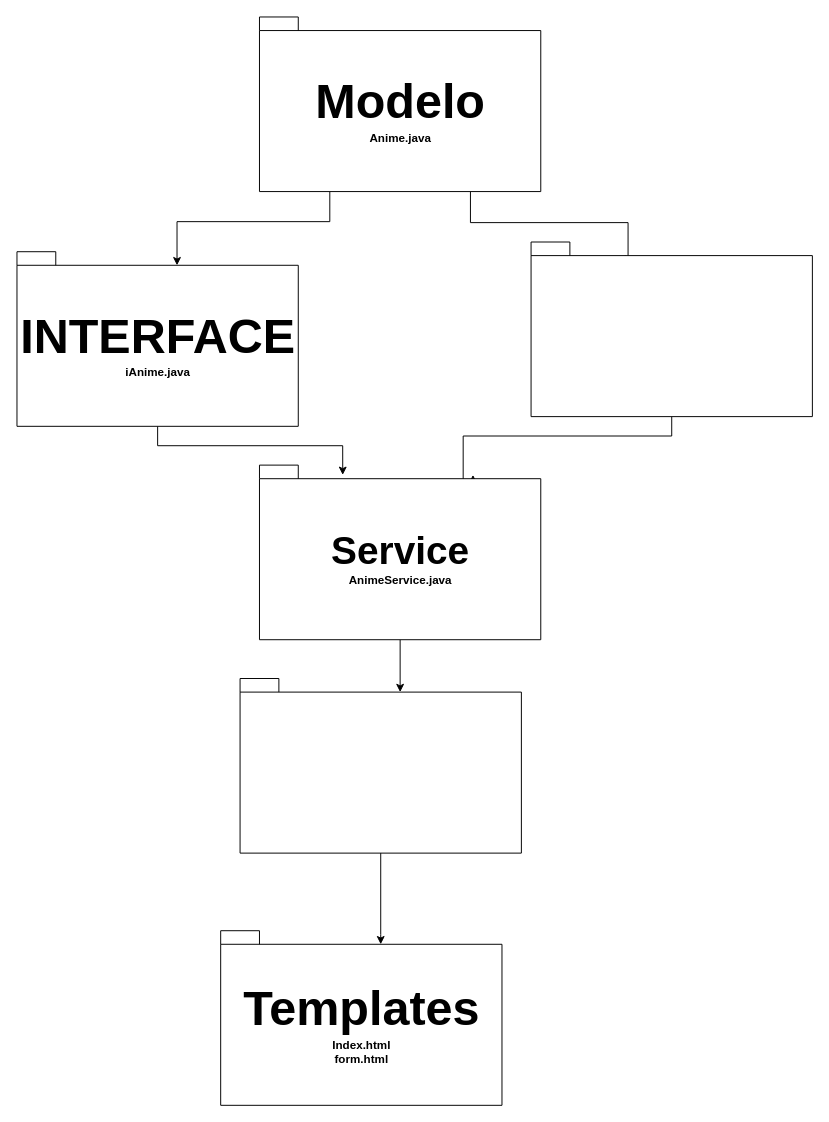
Some shapes in this 829 by 1122 pixel diagram are drawn without their labels. The shapes that lost their labels are listed below. From the top down, each one's centre as x and y in pixels, then its label:
At (x=671, y=329): "INTERFACE SERVICE IAnimeService.java".
At (x=380, y=765): "Controller Controler.java".
